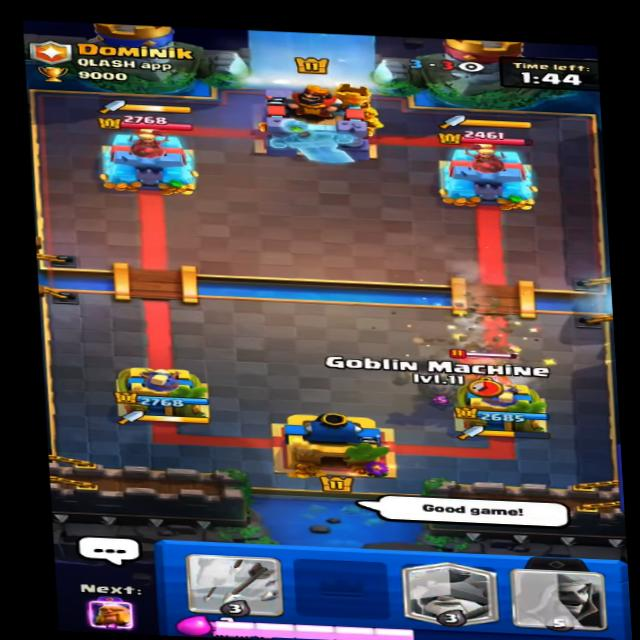goblin-drill: (448, 344, 531, 394)
